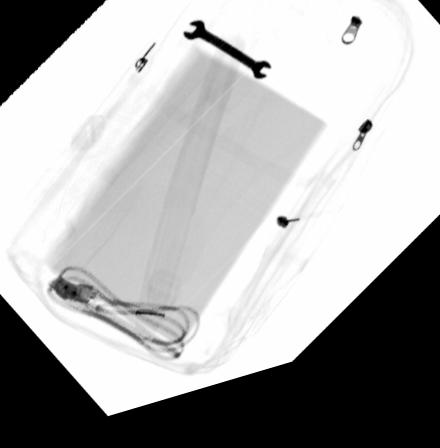Wrench: (181, 29, 273, 94)
